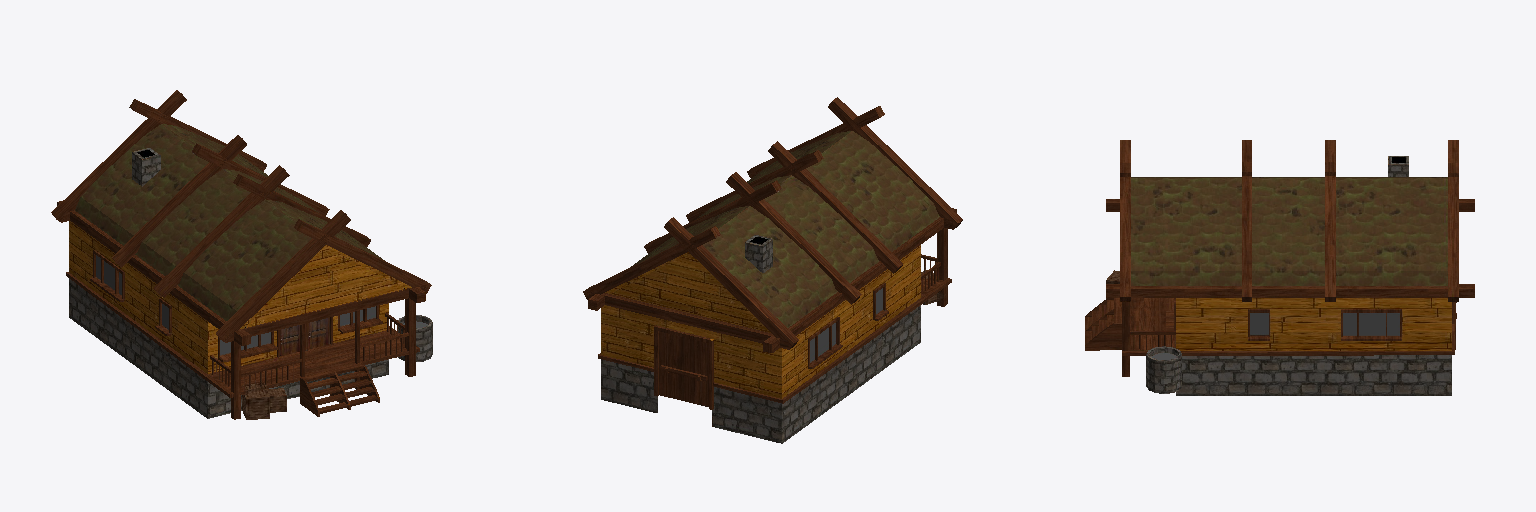
3 views of the same model, side by side, from view 1: azimuth 30°, elevation 25°; view 2: azimuth 150°, elevation 25°; view 3: azimuth 270°, elevation 25° (orthographic).
Parts seen in each view (by area): view 1: L1_2x3_Detached_meshId0_name; view 2: L1_2x3_Detached_meshId0_name; view 3: L1_2x3_Detached_meshId0_name.
Boxes of the visible parts, box(x1,y1,x2,y2) form: L1_2x3_Detached_meshId0_name: box(51, 90, 432, 419); L1_2x3_Detached_meshId0_name: box(583, 97, 962, 443); L1_2x3_Detached_meshId0_name: box(1085, 140, 1474, 395).
Bounding box in the file's own units: 0.0049 × 0.004 × 0.0071.
1 materials, 1 textured.